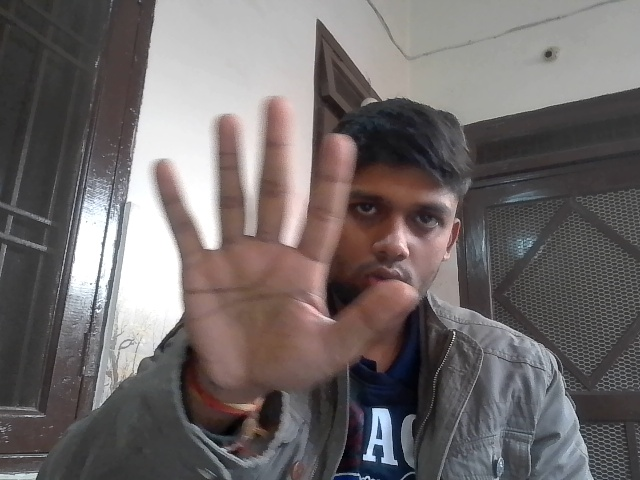Hello: (140, 88, 419, 406)
